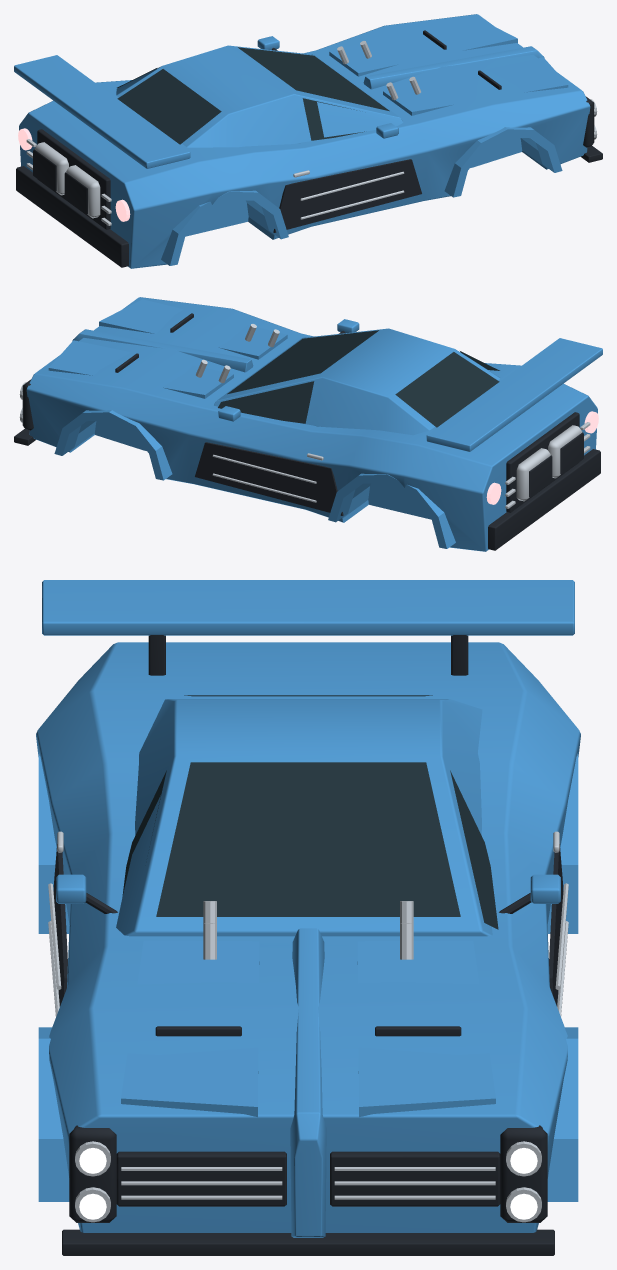
Rendered from dominus.glb.
3 views of the same model, one above another, from view 1: azimuth 30°, elevation 25°; view 2: azimuth 150°, elevation 25°; view 3: azimuth 270°, elevation 25° (orthographic). The views are drawn at different scales.
Visible parts, largest first — view 1: body-paint, body-details; view 2: body-paint, body-details; view 3: body-paint, body-details.
Part boxes in pixels (box(x1,y1,x2,y2)): body-paint: box(14, 14, 590, 268); body-details: box(16, 30, 602, 267); body-paint: box(26, 297, 602, 551); body-details: box(14, 313, 600, 550); body-paint: box(36, 580, 580, 1237); body-details: box(48, 635, 568, 1255).
Size of the model in its own units: 1.48 by 0.34 by 0.7212.
